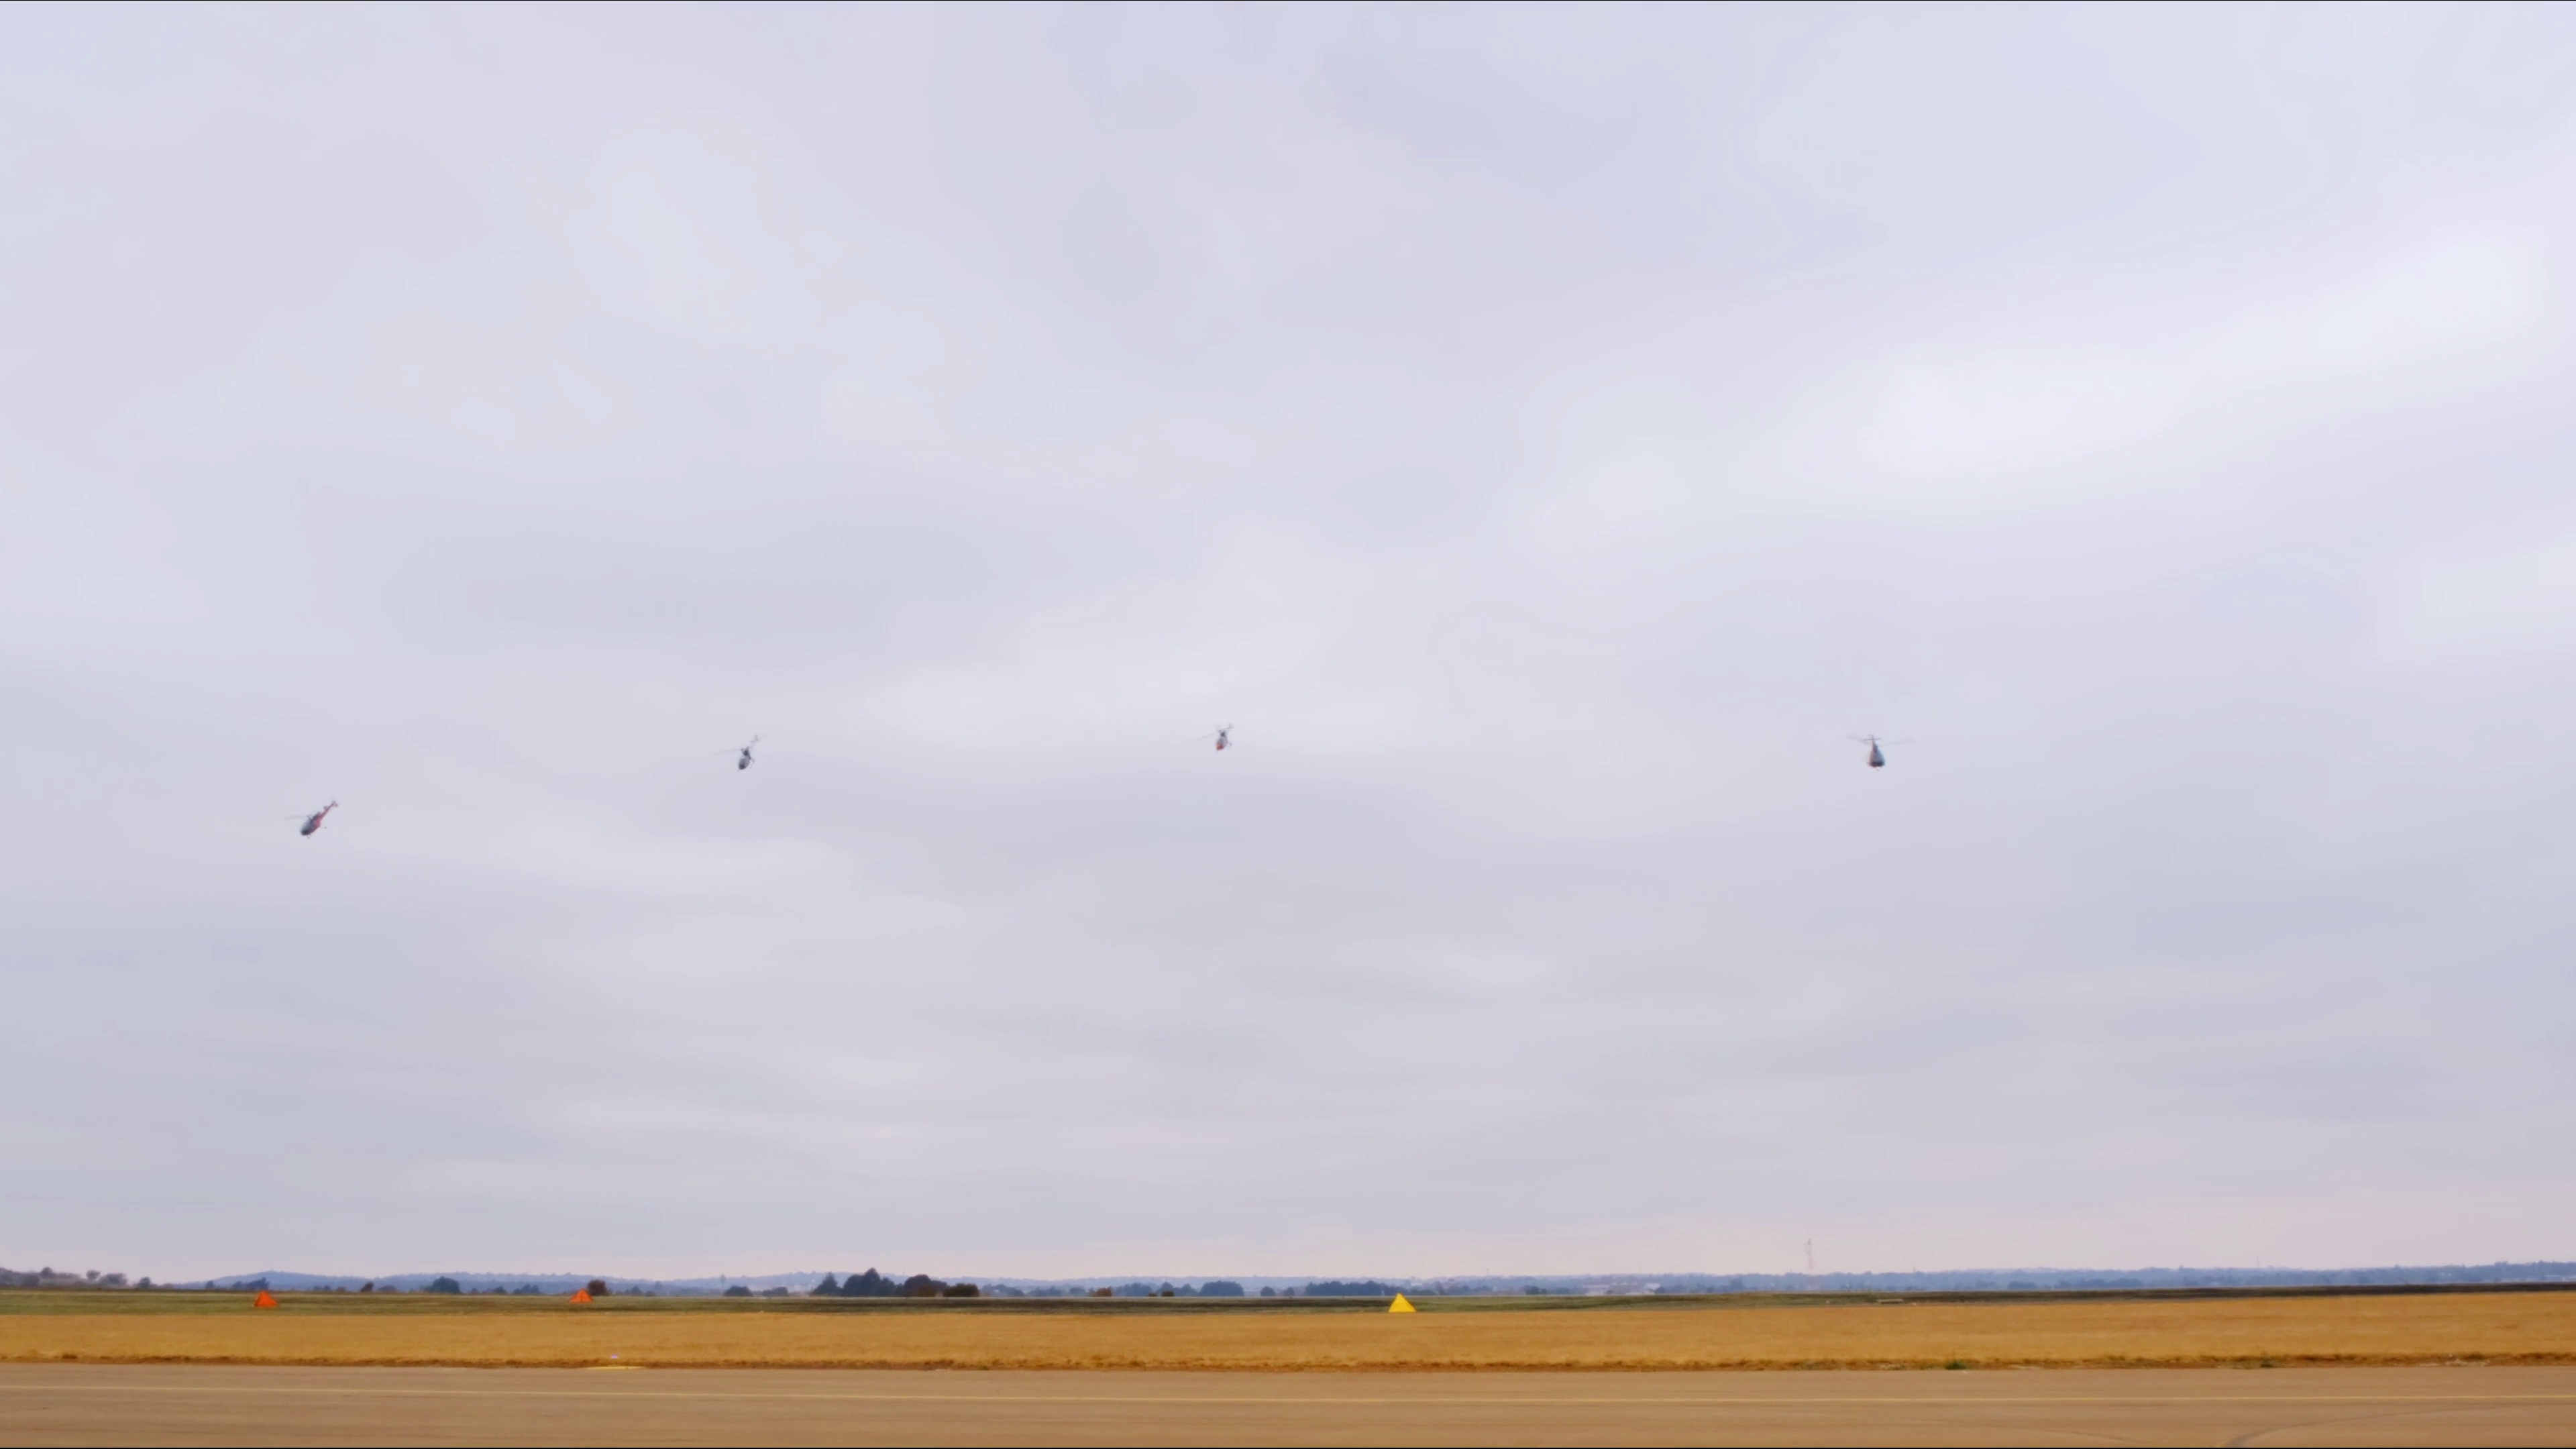heli: (299, 801, 338, 844), (1854, 734, 1893, 771), (731, 734, 757, 775), (1212, 722, 1235, 755)
